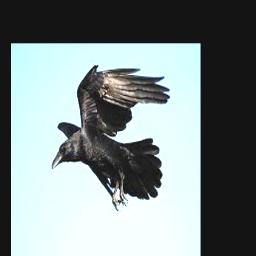Crow: (53, 63, 171, 212)
